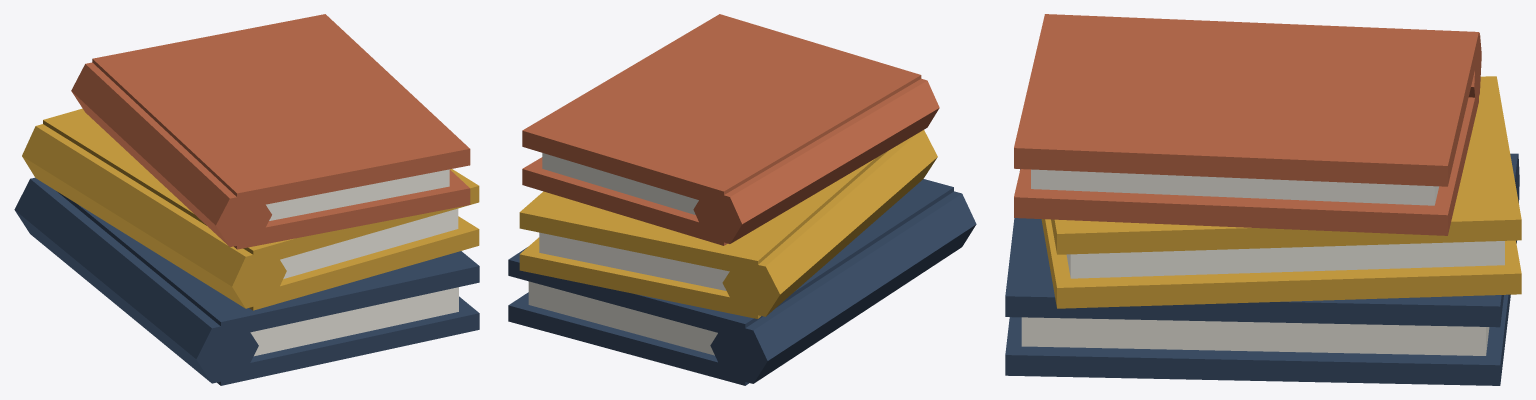
File: SM_LPI_Decor_BookStack_01.fbx
3 renders of one model, left to right at view 1: azimuth 30°, elevation 25°; view 2: azimuth 150°, elevation 25°; view 3: azimuth 270°, elevation 25°, orthographic. The views are drawn at different scales.
Visible parts, largest first — view 1: SM_LPI_Decor_BookStack_01; view 2: SM_LPI_Decor_BookStack_01; view 3: SM_LPI_Decor_BookStack_01.
Part boxes in pixels (x1,y1,x2,y2): SM_LPI_Decor_BookStack_01: [14, 14, 479, 385]; SM_LPI_Decor_BookStack_01: [508, 14, 976, 385]; SM_LPI_Decor_BookStack_01: [1005, 14, 1521, 385].
Size of the model in its own units: 0.2256 by 0.1297 by 0.2709.
